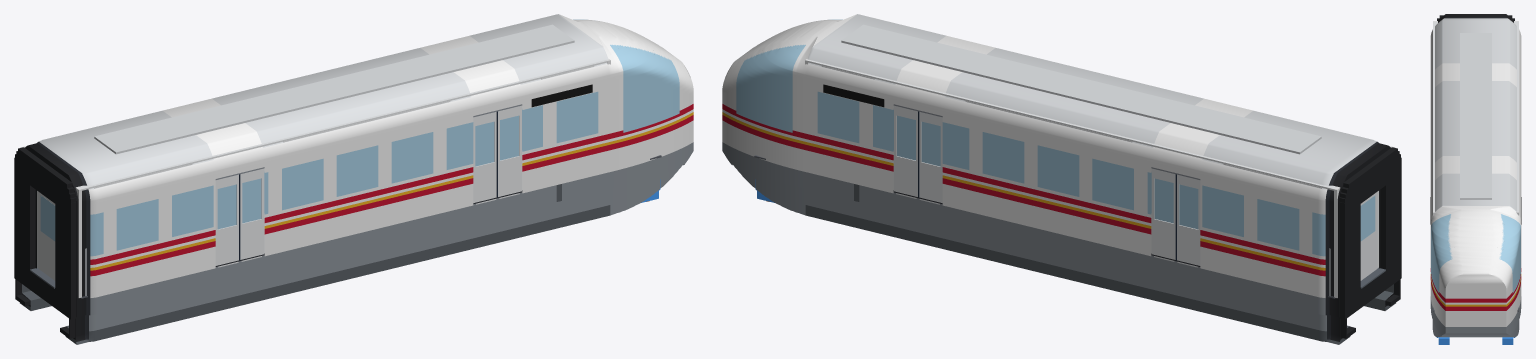
The model's file is changsha_front.obj.
3 views of the same model, side by side, from view 1: azimuth 30°, elevation 25°; view 2: azimuth 150°, elevation 25°; view 3: azimuth 270°, elevation 25° (orthographic). The views are drawn at different scales.
Visible parts, largest first — view 1: SHELL, SHELL_roof, SHELL_diaphragm, EXTERNAL_DOOR_3_CG_DR1_TOGGLE_TL_-0.59_X, EXTERNAL_DOOR_9_CG_DR2_TOGGLE_TL_-0.59_X, EXTERNAL_DOOR_4_CG_DR1_TOGGLE_TL_0.59_X, EXTERNAL_DOOR_10_CG_DR2_TOGGLE_TL_0.59_X, SHELL_ceiling, CONNECTING_DOOR_1_CG_CR_TOGGLE_TL_0.98_Z, SHELL_end, SHELL_sign; view 2: SHELL, SHELL_roof, SHELL_diaphragm, EXTERNAL_DOOR_6_CG_DL1_TOGGLE_TL_-0.59_X, EXTERNAL_DOOR_12_CG_DL2_TOGGLE_TL_-0.59_X, EXTERNAL_DOOR_7_CG_DL1_TOGGLE_TL_0.59_X, EXTERNAL_DOOR_13_CG_DL2_TOGGLE_TL_0.59_X, SHELL_ceiling, CONNECTING_DOOR_1_CG_CR_TOGGLE_TL_0.98_Z, SHELL_end, SHELL_sign; view 3: SHELL, SHELL_roof, SHELL_ceiling, BOGEY_FRONT.
Part boxes in pixels (box(x1,y1,x2,y2)): SHELL: box(20, 14, 693, 344); SHELL_roof: box(94, 24, 574, 154); SHELL_diaphragm: box(14, 147, 76, 338); EXTERNAL_DOOR_3_CG_DR1_TOGGLE_TL_-0.59_X: box(215, 174, 240, 265); EXTERNAL_DOOR_9_CG_DR2_TOGGLE_TL_-0.59_X: box(473, 111, 497, 202); EXTERNAL_DOOR_4_CG_DR1_TOGGLE_TL_0.59_X: box(240, 168, 264, 259); EXTERNAL_DOOR_10_CG_DR2_TOGGLE_TL_0.59_X: box(498, 105, 521, 196); SHELL_ceiling: box(23, 60, 607, 190); CONNECTING_DOOR_1_CG_CR_TOGGLE_TL_0.98_Z: box(38, 191, 55, 280); SHELL_end: box(20, 147, 81, 297); SHELL_sign: box(531, 84, 592, 107); SHELL: box(722, 14, 1395, 344); SHELL_roof: box(841, 24, 1321, 154); SHELL_diaphragm: box(1339, 147, 1401, 338); EXTERNAL_DOOR_6_CG_DL1_TOGGLE_TL_-0.59_X: box(1175, 174, 1200, 265); EXTERNAL_DOOR_12_CG_DL2_TOGGLE_TL_-0.59_X: box(918, 111, 942, 202); EXTERNAL_DOOR_7_CG_DL1_TOGGLE_TL_0.59_X: box(1151, 168, 1175, 259); EXTERNAL_DOOR_13_CG_DL2_TOGGLE_TL_0.59_X: box(894, 105, 917, 196); SHELL_ceiling: box(808, 60, 1392, 190); CONNECTING_DOOR_1_CG_CR_TOGGLE_TL_0.98_Z: box(1360, 191, 1377, 280); SHELL_end: box(1334, 147, 1395, 297); SHELL_sign: box(823, 84, 884, 107); SHELL: box(1430, 14, 1521, 337); SHELL_roof: box(1460, 33, 1491, 199); SHELL_ceiling: box(1433, 21, 1518, 211); BOGEY_FRONT: box(1436, 337, 1515, 344).
Size of the model in its own units: 16.65 by 4.18 by 2.82.
Materials: 1 (1 with a texture image).
